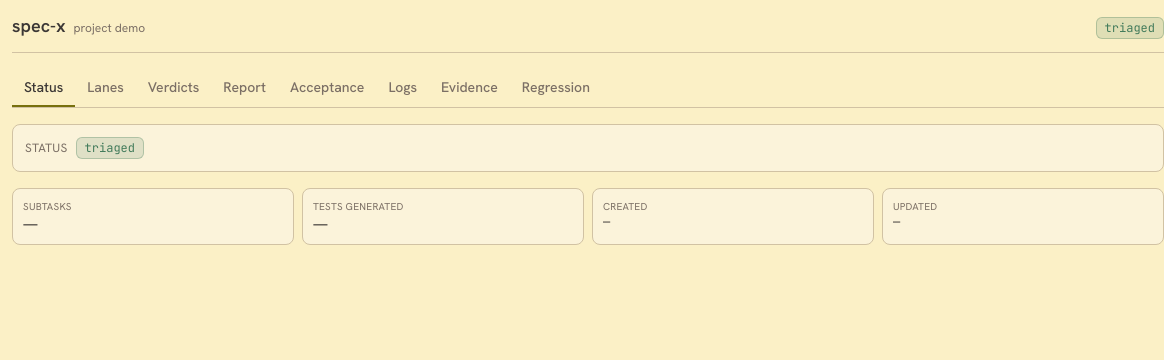
Test case: <TFactoryTaskDetail> evidence tab (Task 16) › shows empty message when no verdicts and no browser media
The image size is (1164, 360).
Click the tab with test id "tab-evidence" at [469, 88], box [429, 69, 510, 107]
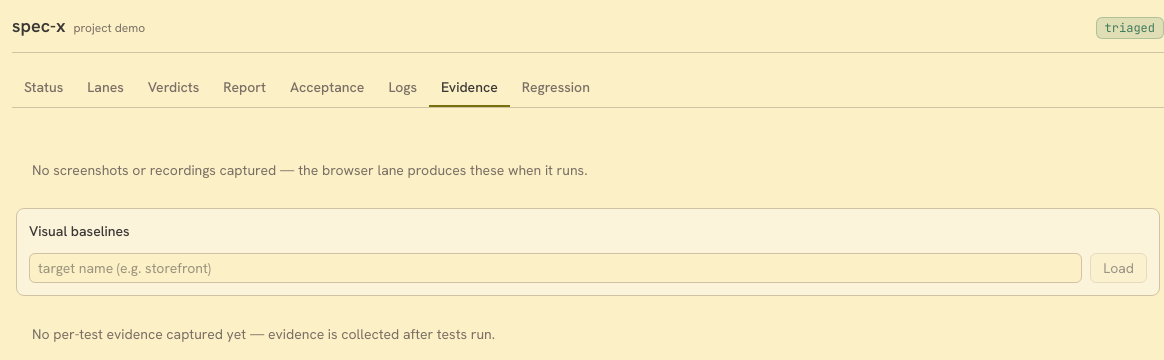
Check: the text with test id "evidence-empty" is shown, box [32, 325, 495, 343]
